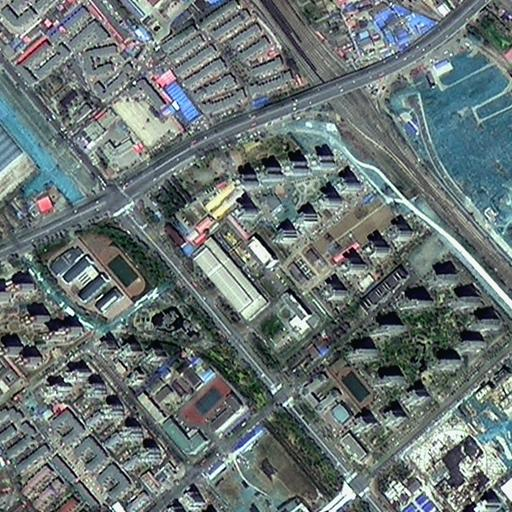school: (36, 228, 148, 323), (298, 355, 376, 430)
